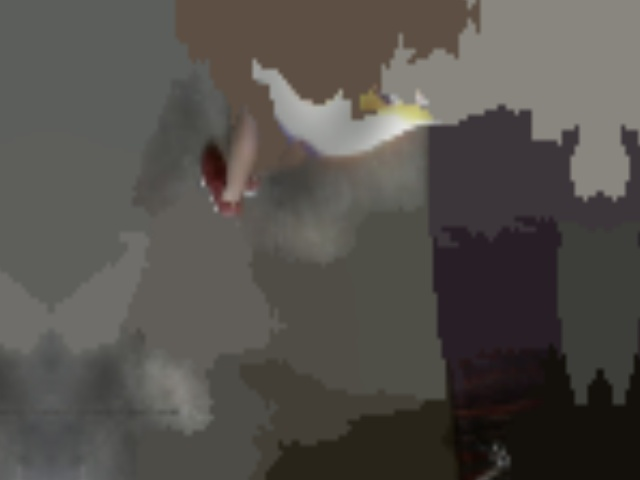two: (508, 13, 553, 55)
